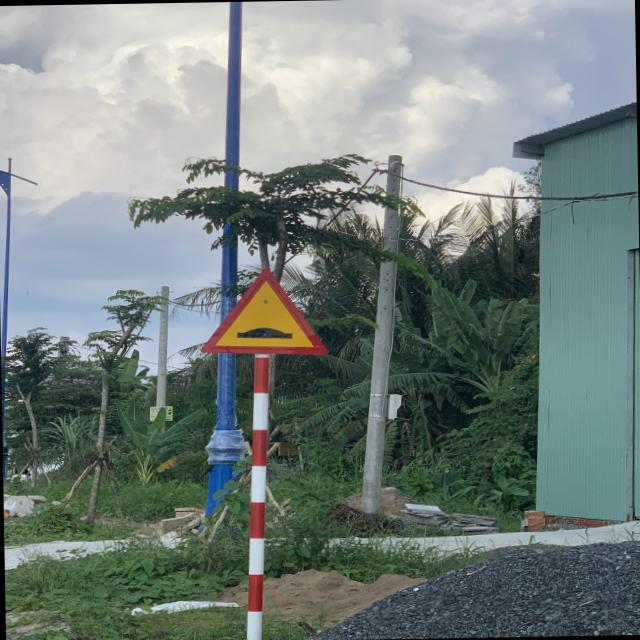Duong_Cong_Ben_Phai: (196, 266, 330, 356)
